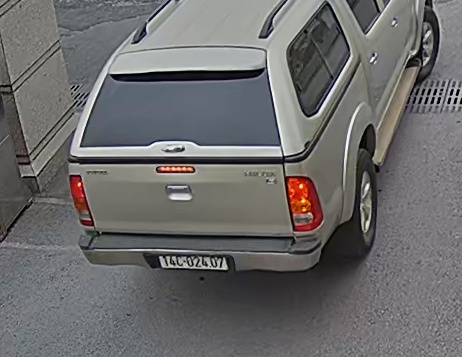vehicle plate: (155, 248, 234, 272)
